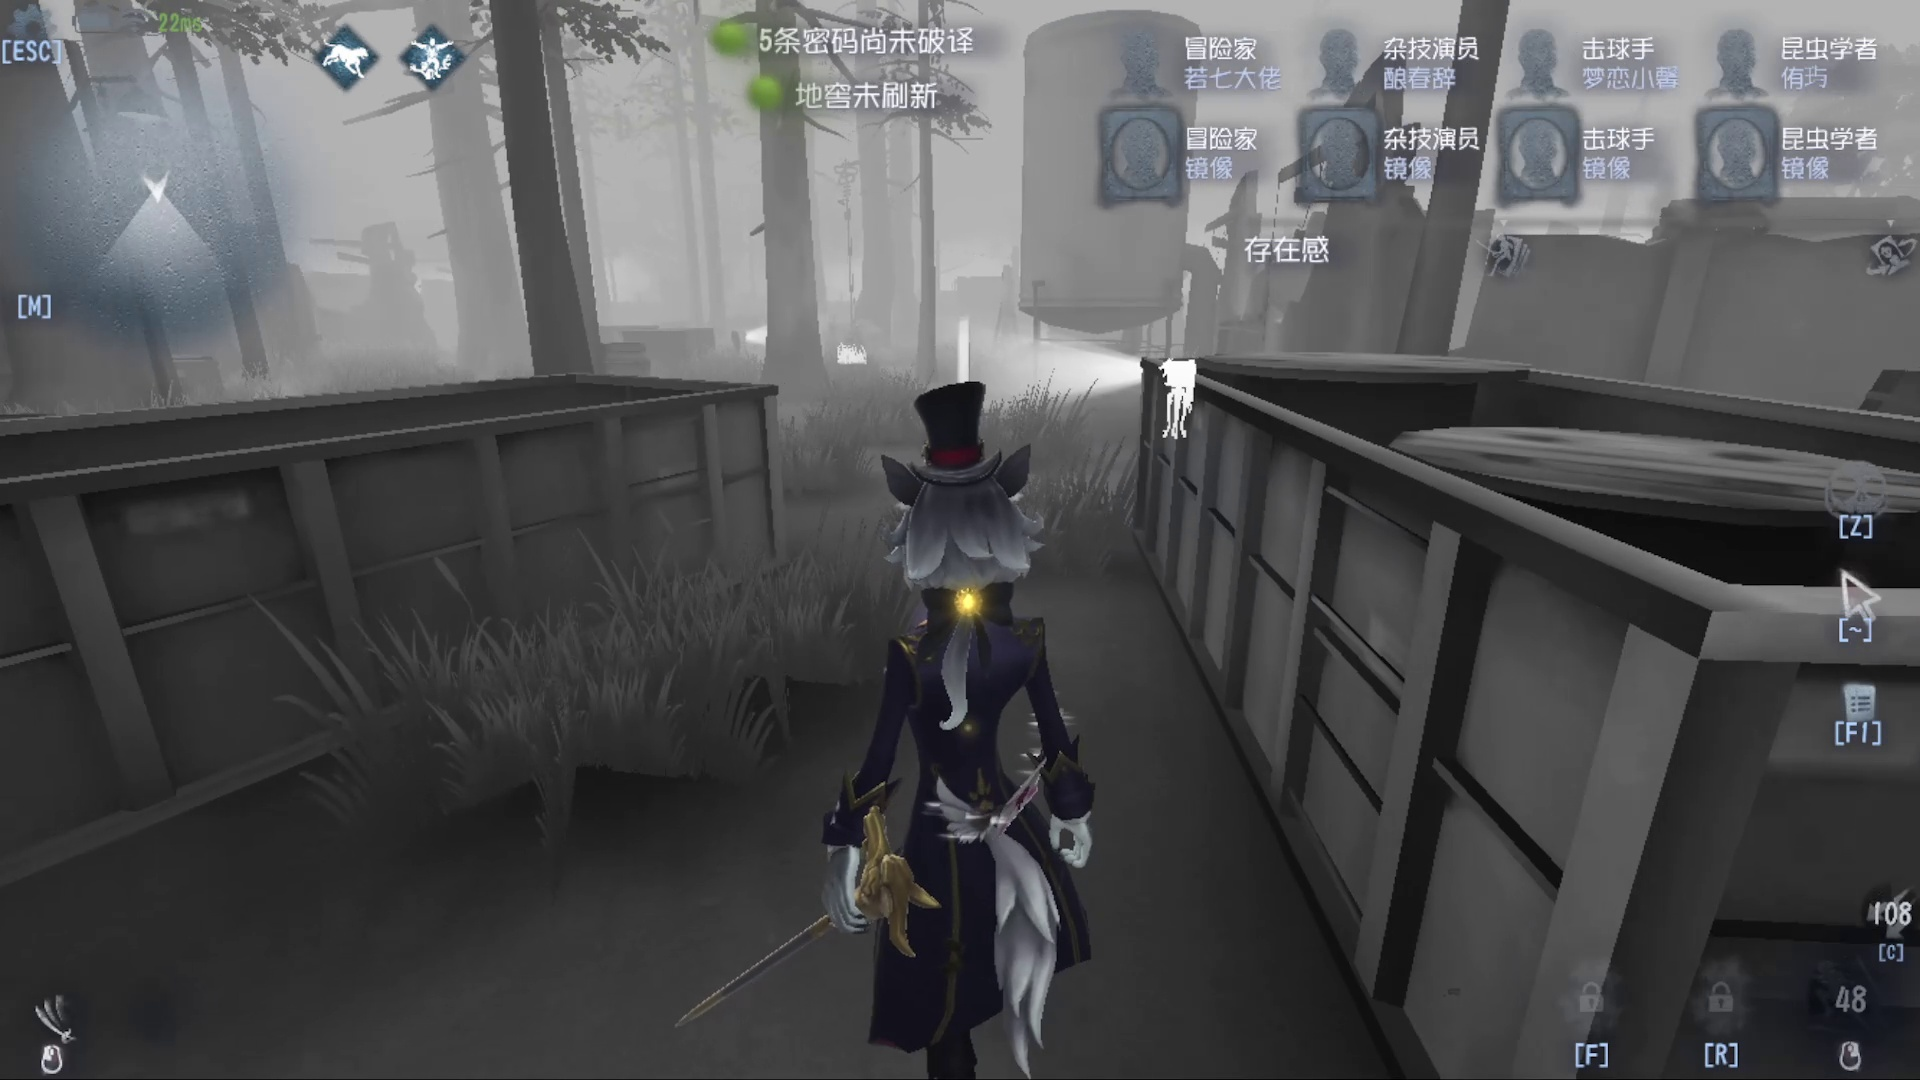密码机: (820, 160, 878, 372)
